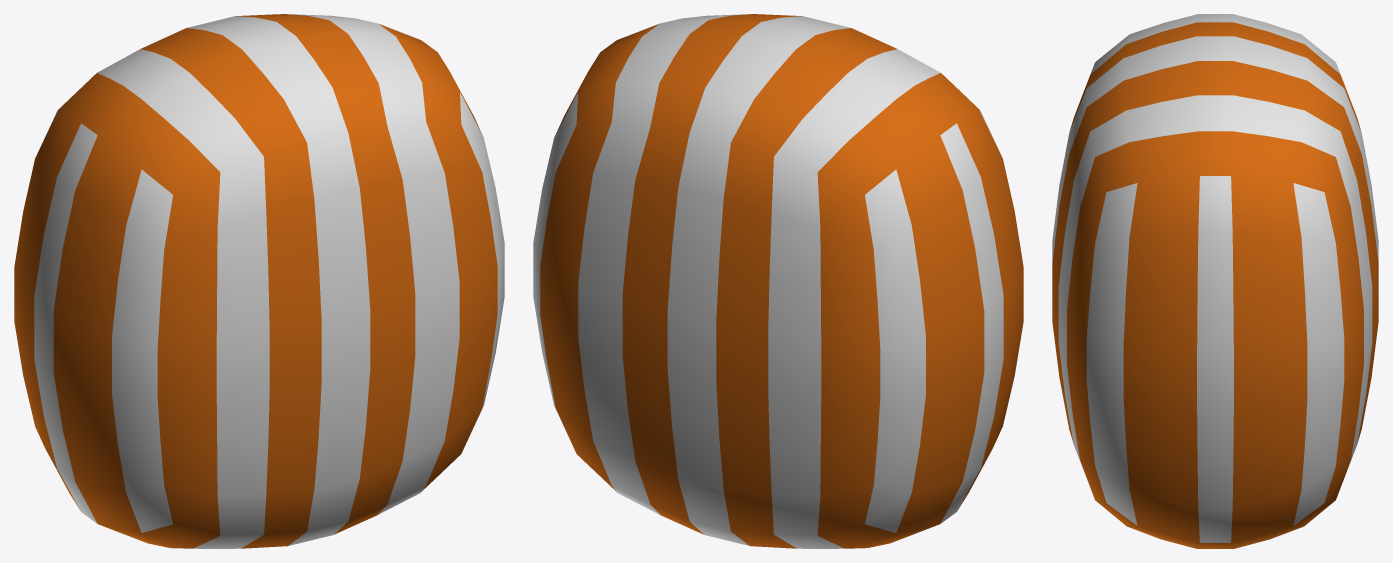
Rendered from bonbon.dae.
The picture shows the model from 3 angles, left to right: view 1: azimuth 30°, elevation 25°; view 2: azimuth 150°, elevation 25°; view 3: azimuth 270°, elevation 25°; orthographic projection. The views are drawn at different scales.
Parts seen in each view (by area): view 1: Cube; view 2: Cube; view 3: Cube.
Part boxes in pixels (left/top/right/bottom): Cube: left=14, top=14, right=504, bottom=548; Cube: left=533, top=14, right=1023, bottom=548; Cube: left=1052, top=14, right=1378, bottom=548.
Size of the model in its own units: 1.37 by 0.9496 by 1.49.
